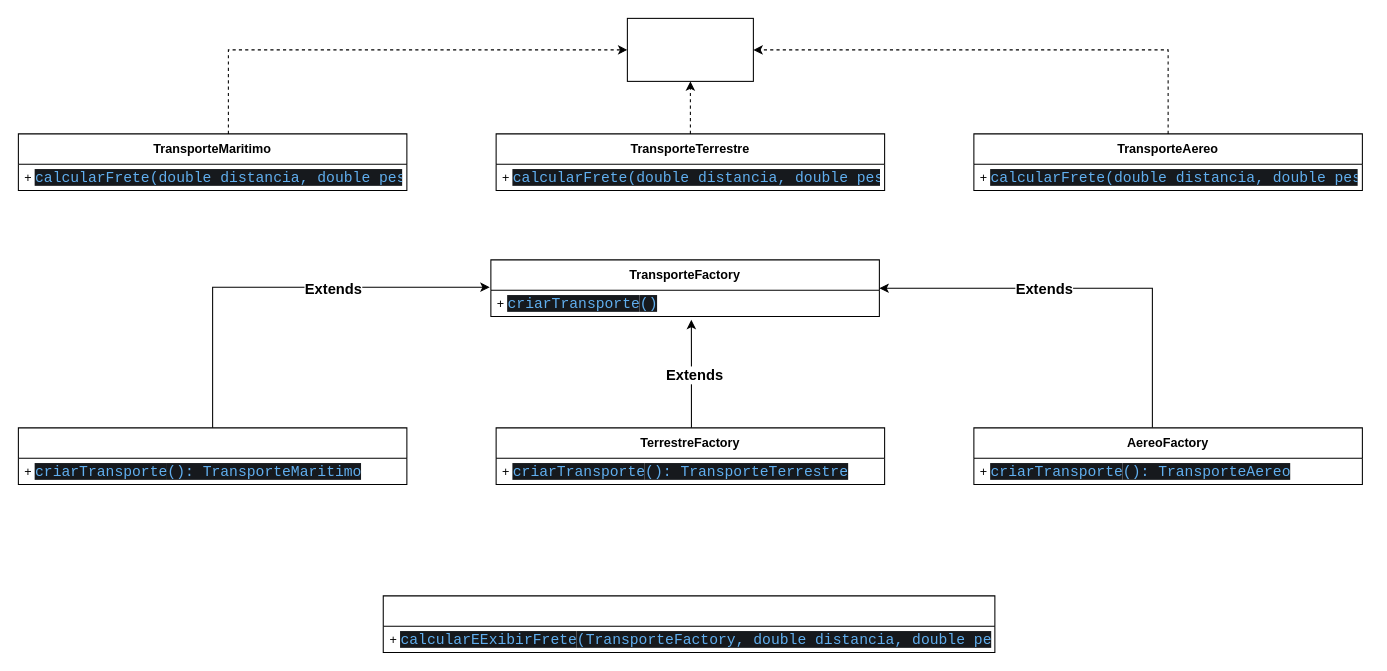
Image size: 1387x671. Some labels were removed from this diagram. The shapes that lost their labels are listed below. From the top down, each one's box as (x1, y1, x2, y2) in pixels, then its label:
(626, 17, 753, 81): <<interface>> Transporte
(17, 427, 407, 485): MaritimoFactory
(382, 595, 995, 653): TransporteService
